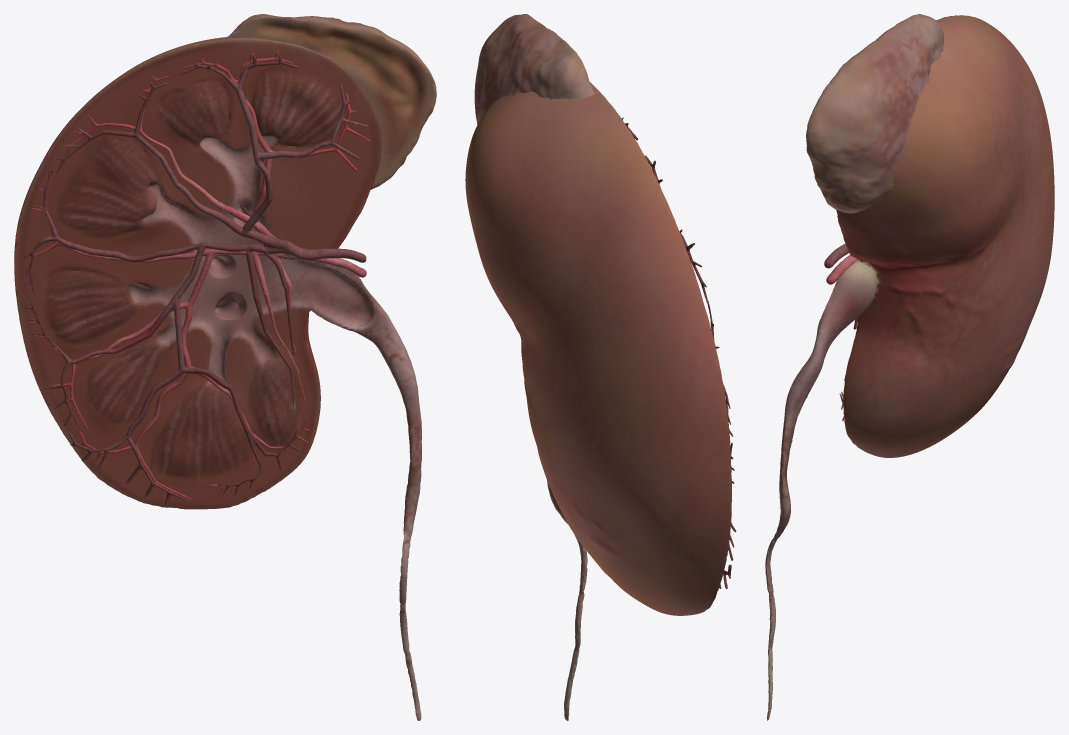
Rendered from kidney.glb.
3 views of the same model, side by side, from view 1: azimuth 30°, elevation 25°; view 2: azimuth 150°, elevation 25°; view 3: azimuth 270°, elevation 25° (orthographic). The views are drawn at different scales.
Parts seen in each view (by area): view 1: Object_10, Object_32, Object_5, Object_8, Object_31, Object_33, Object_26, Object_22, Object_24, Object_28, Object_20, Object_17 (+15 smaller); view 2: Object_10, Object_32, Object_8, Object_5, Object_31; view 3: Object_32, Object_5, Object_10, Object_8, Object_31, Object_22.
Boxes of the visible parts, x1,y1,x2,y2 form: Object_10: [14, 102, 226, 382]; Object_32: [87, 14, 436, 201]; Object_5: [158, 158, 365, 427]; Object_8: [25, 345, 317, 509]; Object_31: [350, 284, 421, 720]; Object_33: [208, 205, 251, 319]; Object_26: [62, 201, 268, 399]; Object_22: [293, 246, 366, 277]; Object_24: [152, 51, 282, 391]; Object_28: [172, 247, 296, 370]; Object_20: [28, 70, 239, 487]; Object_17: [48, 61, 217, 413]; Object_10: [508, 220, 731, 526]; Object_32: [465, 14, 674, 268]; Object_8: [556, 501, 731, 615]; Object_5: [480, 257, 582, 520]; Object_31: [547, 480, 587, 720]; Object_32: [806, 14, 1024, 227]; Object_5: [832, 179, 1013, 419]; Object_10: [1005, 47, 1054, 356]; Object_8: [843, 319, 1032, 457]; Object_31: [765, 293, 845, 720]; Object_22: [824, 244, 856, 284].
Size of the model in its own units: 1.44 by 2.91 by 1.15.
